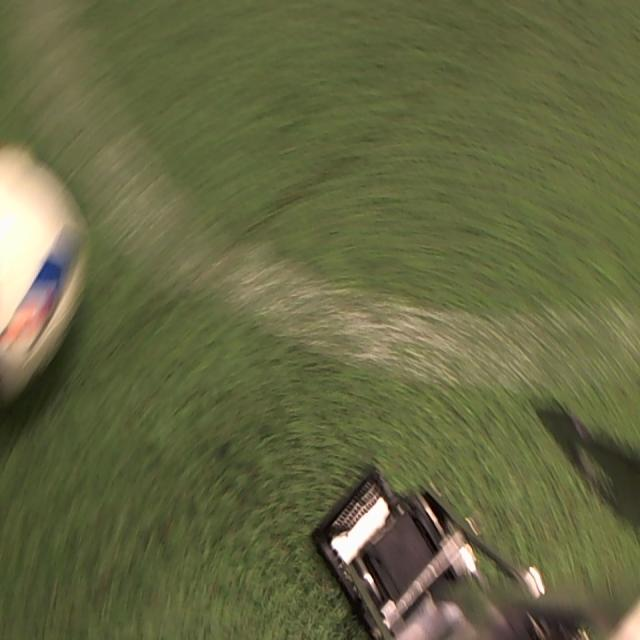ball: (0, 140, 89, 396)
